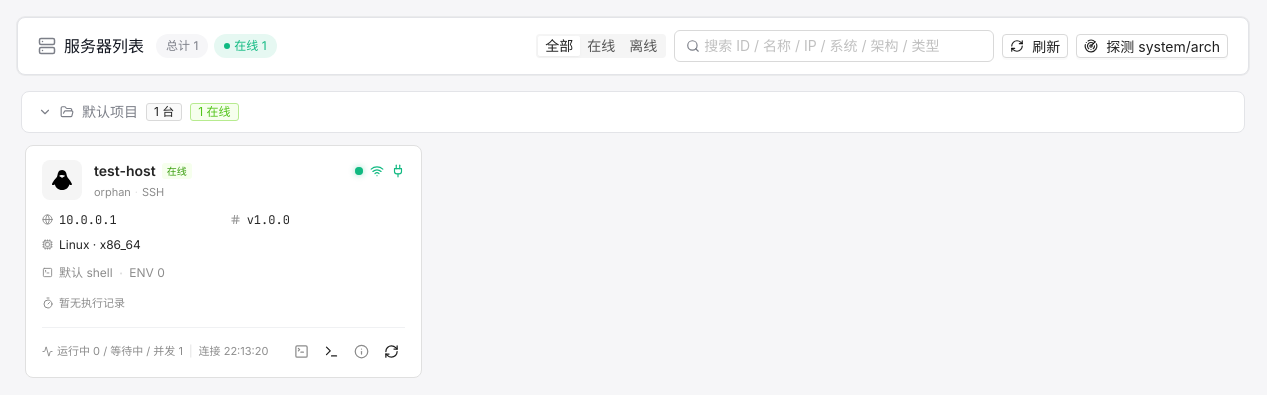
Test: <ServersPage /> › 搜索无匹配结果时不崩溃（空列表 + null 字段）
Expected: the text "服务器列表" is shown, [64,34,144,58]
Type "zzz_nonexistent" into the field with placeholder "搜索 ID / 名称 / IP / 系统 / 架构 / 类型".
click(835, 46); type("zzz_nonexistent")  # box [704,35,966,57]
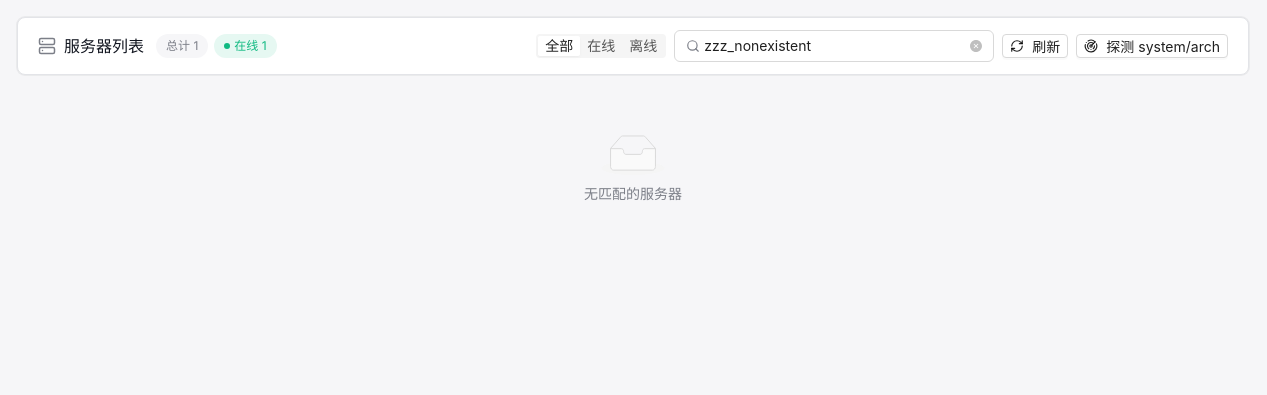
Now the text "无匹配的服务器" is shown, box [584,185,682,202]
